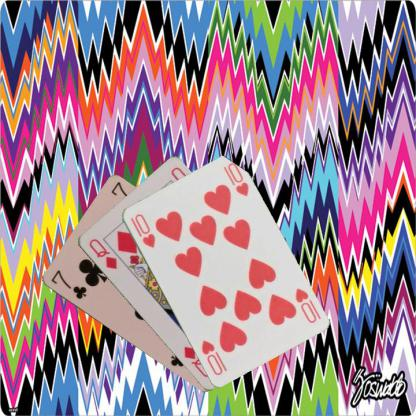10h: (128, 211, 156, 249), (292, 286, 318, 324)
7c: (48, 267, 88, 301)
Qd: (86, 236, 119, 271)
